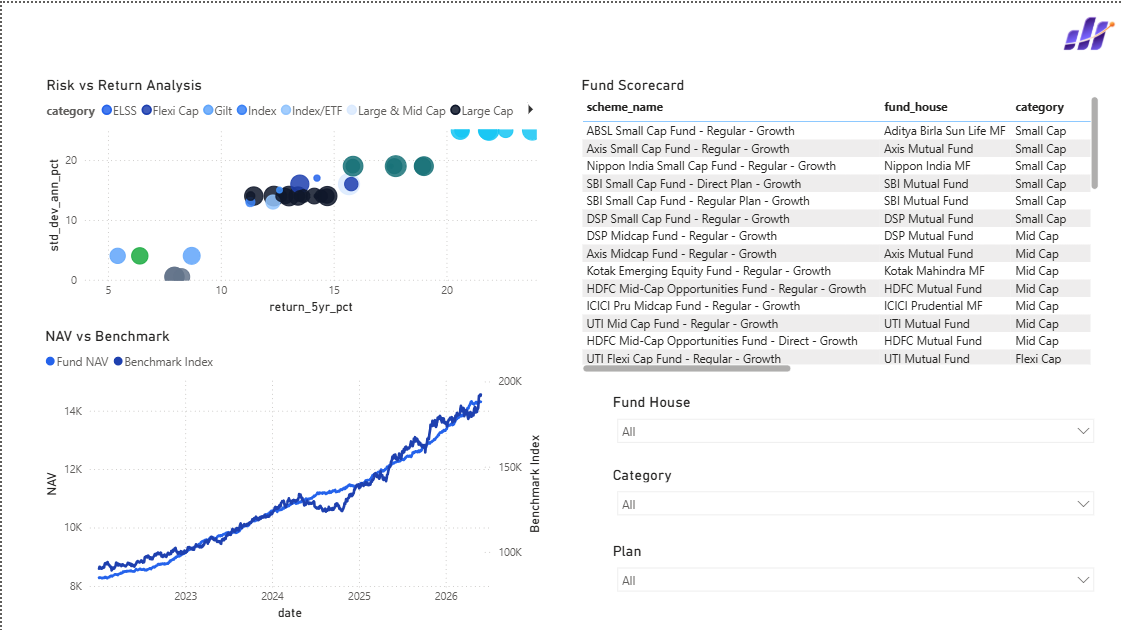

This screenshot's page, from the dashboard's own definition file:
{"tool":"powerbi","page":{"name":"Fund Performance","canvas":[1280,720],"ordinal":1},"visuals":[{"type":"scatterChart","title":"Risk vs Return Analysis","fields":{"X":["scheme_performance_clean.return_5yr_pct"],"Y":["scheme_performance_clean.std_dev_ann_pct"],"Size":["Sum(scheme_performance_clean.aum_crore)"],"Series":["scheme_performance_clean.category"]},"box":[45.3,82.3,577.7,277.2],"z":0},{"type":"tableEx","title":"Fund Scorecard","fields":{"Values":["scheme_performance_clean.scheme_name","scheme_performance_clean.fund_house","scheme_performance_clean.category","scheme_performance_clean.plan","scheme_performance_clean.aum_crore","scheme_performance_clean.return_1yr_pct","scheme_performance_clean.return_3yr_pct","scheme_performance_clean.return_5yr_pct","scheme_performance_clean.std_dev_ann_pct","scheme_performance_clean.sharpe_ratio","scheme_performance_clean.alpha","scheme_performance_clean.morningstar_rating"]},"box":[657.3,82.3,601,344.4],"z":1000},{"type":"lineChart","title":"NAV vs Benchmark","fields":{"Category":["nav_history_clean.date"],"Y":["Sum(nav_history_clean.nav)"],"Y2":["Sum(10_benchmark_indices.close_value)"]},"box":[45,370,577,340],"z":2000},{"type":"slicer","title":"Fund House","fields":{"Values":["scheme_performance_clean.fund_house"]},"box":[692.4,446.1,565.3,83.1],"z":3000},{"type":"slicer","title":"Category","fields":{"Values":["scheme_performance_clean.category"]},"box":[693,529.1,565.4,86.4],"z":4000},{"type":"slicer","title":"Plan","fields":{"Values":["scheme_performance_clean.plan"]},"box":[692.4,615.4,565.3,86.2],"z":5000},{"type":"image","box":[1203.4,0,76.8,70],"z":5001}]}

Visuals, with their boxes in screenshot pixels (x1, y1, x2, y2), scaled from the page's 1280x720 canvas onto the 1121x630 screenshot:
"Risk vs Return Analysis" scatterChart: (40, 72, 546, 315)
"Fund Scorecard" tableEx: (576, 72, 1102, 373)
"NAV vs Benchmark" lineChart: (39, 324, 545, 621)
"Fund House" slicer: (606, 390, 1101, 463)
"Category" slicer: (607, 463, 1102, 539)
"Plan" slicer: (606, 538, 1101, 614)
image: (1054, 0, 1120, 61)
